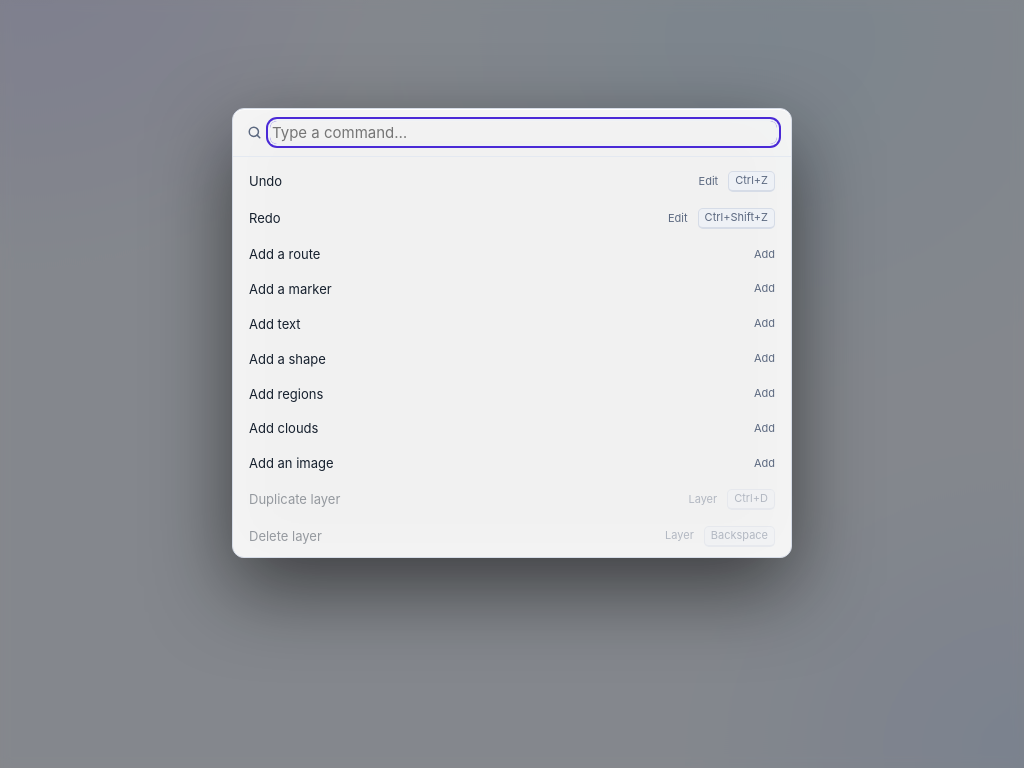
Test: the palette › says so when nothing matches
This screenshot has width=1024, height=768.
Type "xyzzy" into the field named "Search commands".
click(524, 132); type("xyzzy")  # box 270,120 -> 777,144
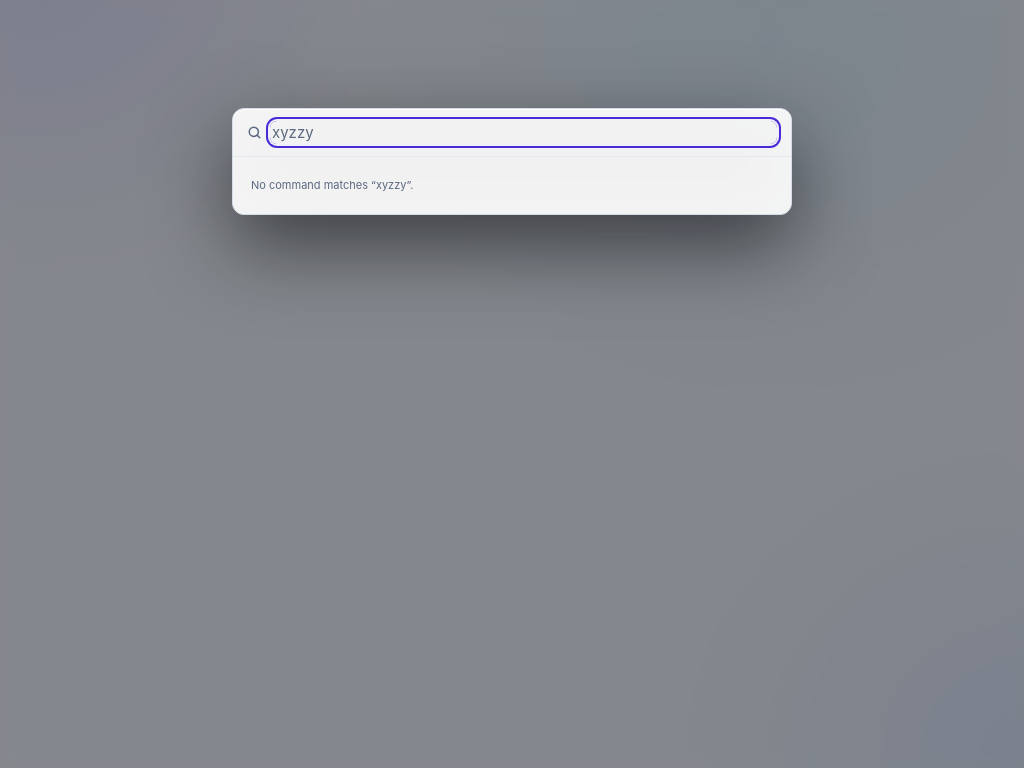
Expected: no options are shown
Expected: the text "No command matches “xyzzy”." is shown, 251,178 -> 413,192
